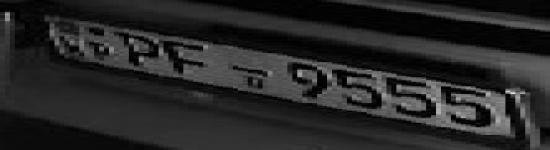-: (226, 63, 276, 78)
5: (436, 84, 500, 131), (384, 75, 440, 122)
9: (329, 67, 385, 113), (274, 59, 333, 101)
F: (156, 39, 217, 79)
P: (110, 30, 163, 70), (89, 41, 116, 63)
W: (53, 36, 92, 57)
